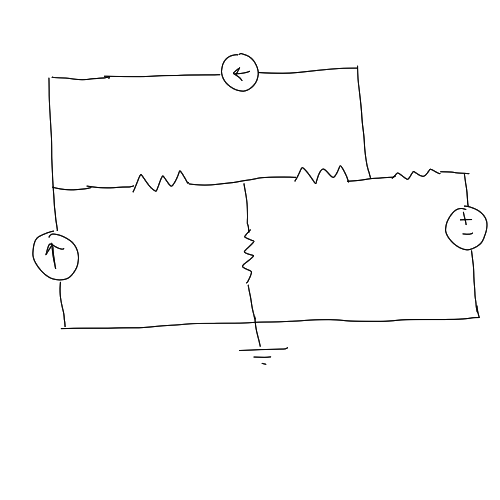dccs: (27, 226, 87, 285), (220, 51, 264, 94)
dcvs: (440, 200, 495, 252)
gnd: (233, 339, 291, 369)
res: (128, 168, 207, 198), (239, 217, 265, 290), (286, 162, 352, 188), (389, 164, 453, 184)
